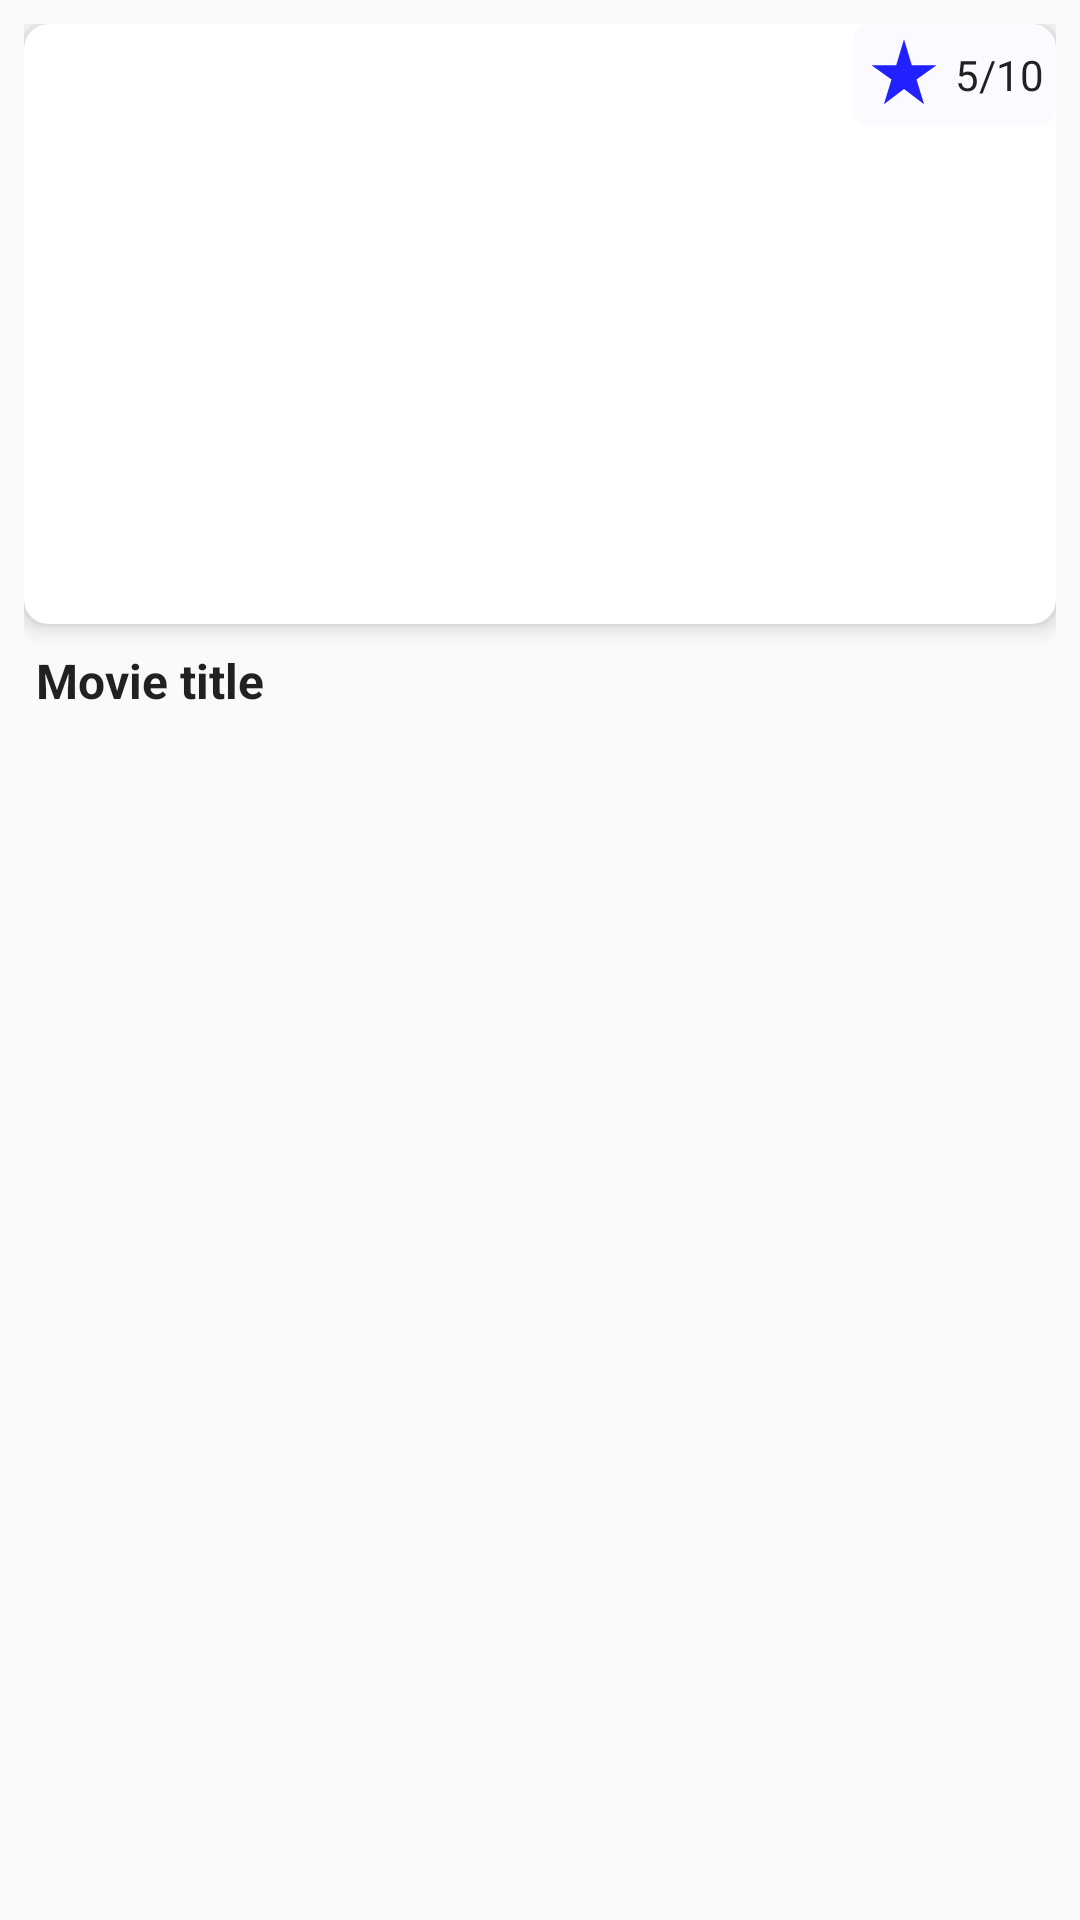

Where to tap for icons on this 1080×1920 app screen, as (x,y):
star rate: (904,72)
